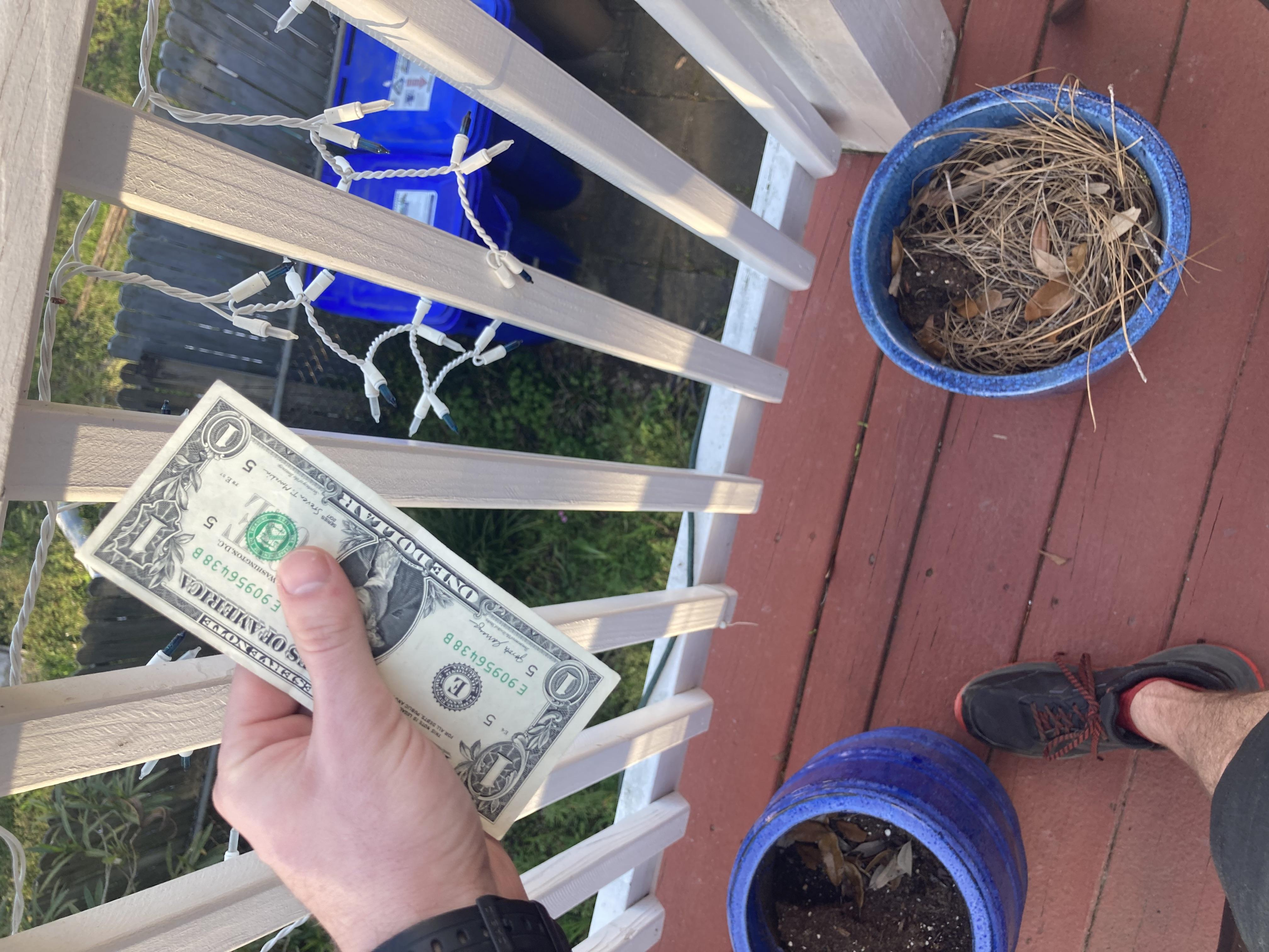one-front: (148, 58, 770, 468)
